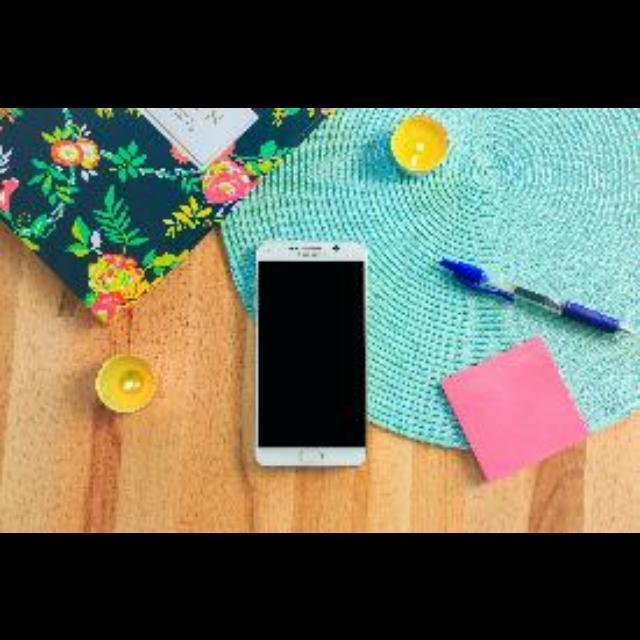phone: (252, 252, 368, 473)
